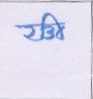i_matra: (46, 12, 64, 39)
